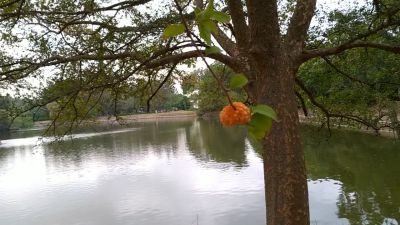eggs: (218, 101, 253, 129)
